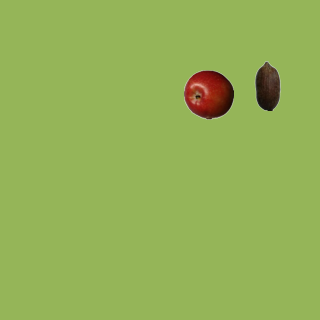Apple Braeburn: (183, 69, 233, 119)
Nut Pecan: (242, 60, 292, 110)
